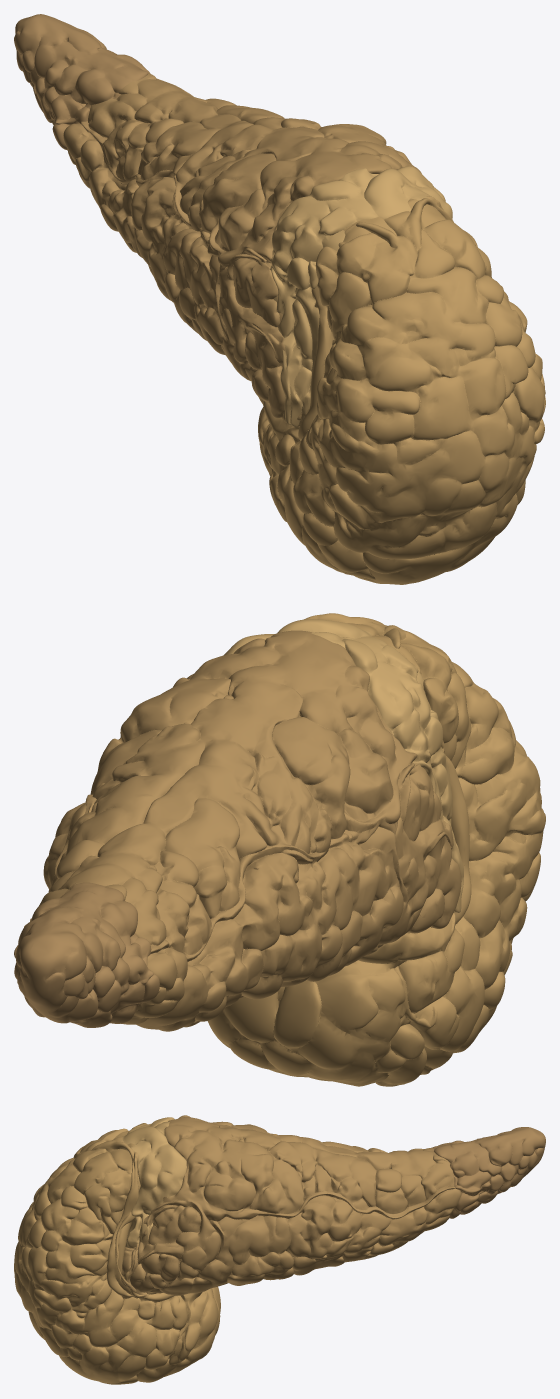
Rendered from organ-pancreas-disassemblable.glb.
3 renders of one model, top to bottom at view 1: azimuth 30°, elevation 25°; view 2: azimuth 150°, elevation 25°; view 3: azimuth 270°, elevation 25°, orthographic. The views are drawn at different scales.
Visible parts, largest first — view 1: part_2, part_3, part_1, part_0; view 2: part_3, part_2, part_0, part_1; view 3: part_3, part_2, part_0, part_1.
Boxes of the visible parts, x1,y1,x2,y2 form: part_2: (258, 196, 545, 584); part_3: (63, 73, 421, 418); part_1: (271, 166, 452, 427); part_0: (14, 14, 150, 150); part_3: (24, 630, 461, 1031); part_2: (207, 613, 545, 1086); part_0: (14, 882, 159, 1027); part_1: (223, 619, 463, 912); part_3: (121, 1115, 461, 1298); part_2: (14, 1128, 220, 1384); part_0: (432, 1127, 545, 1218); part_1: (122, 1117, 186, 1248).
Size of the model in its own units: 0.6268 by 0.9805 by 1.9.
